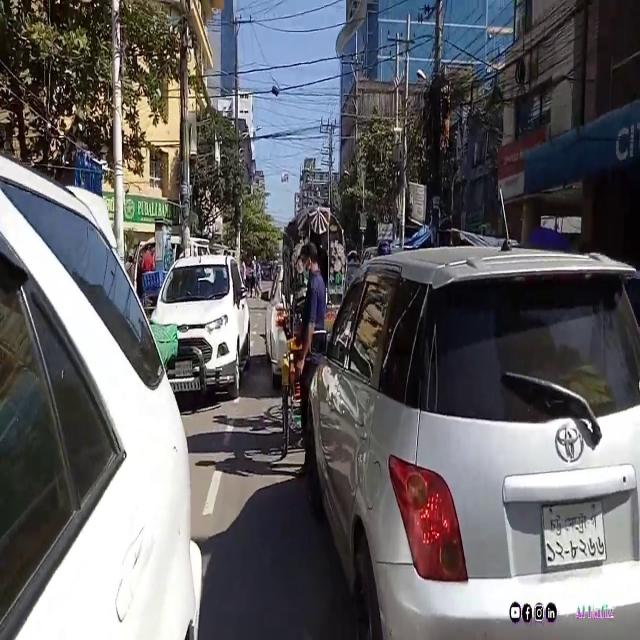silver: (295, 238, 637, 640)
white: (147, 245, 254, 405)
